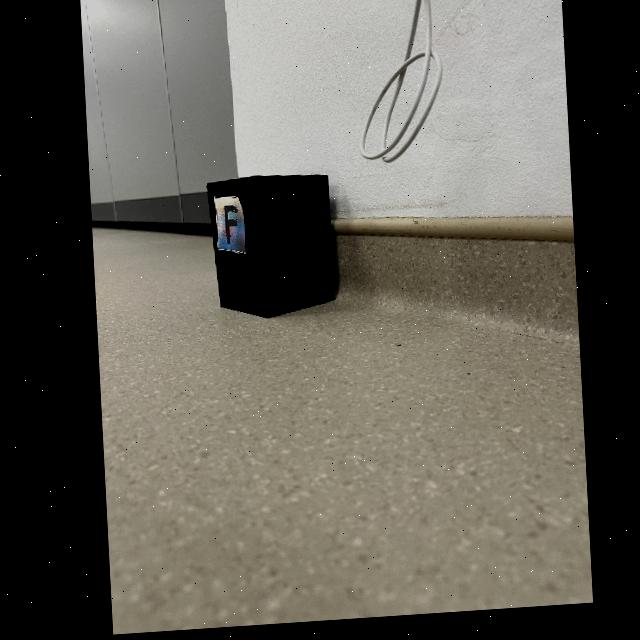F: (222, 208, 235, 247)
